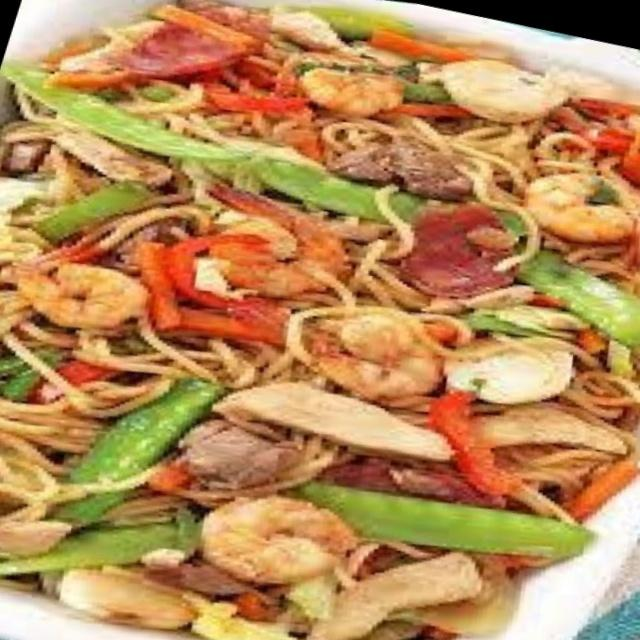pancit bihon: (0, 0, 639, 639)
